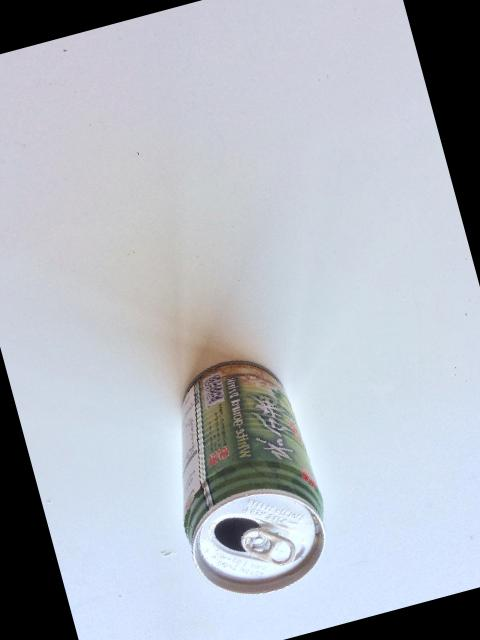metal: (180, 362, 323, 593)
